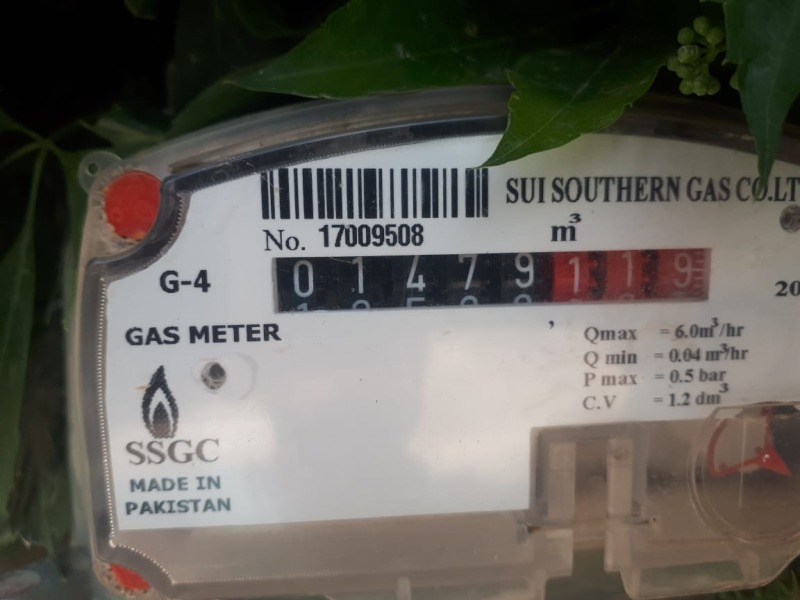ssgc: (266, 246, 716, 310)
